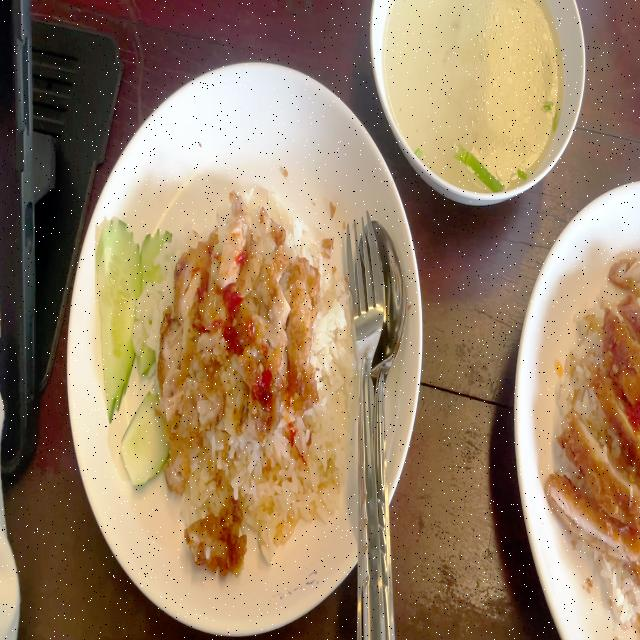chicken_rice: (88, 178, 368, 590), (546, 248, 640, 640)
cucumber: (94, 214, 174, 492)
fried_chicken: (161, 207, 317, 447), (547, 256, 640, 566), (181, 494, 249, 579)
